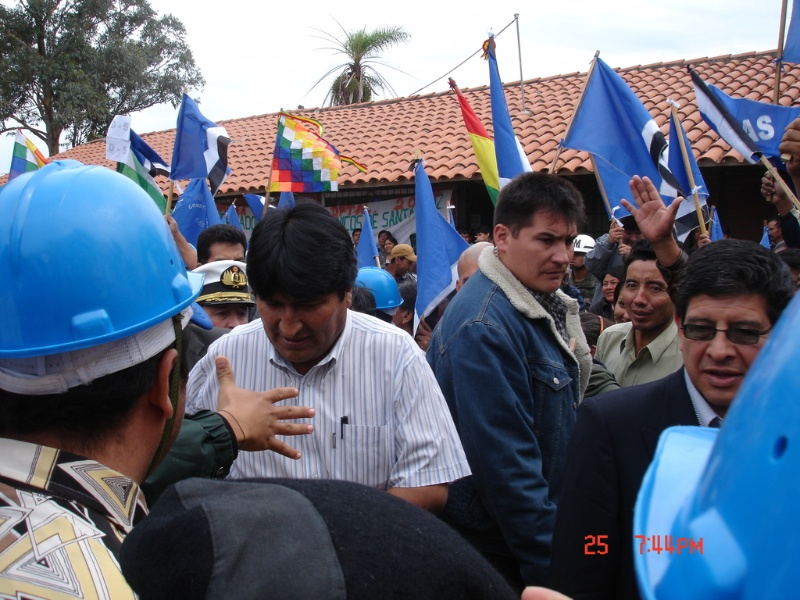helmet: (639, 303, 800, 595), (1, 158, 195, 350)
